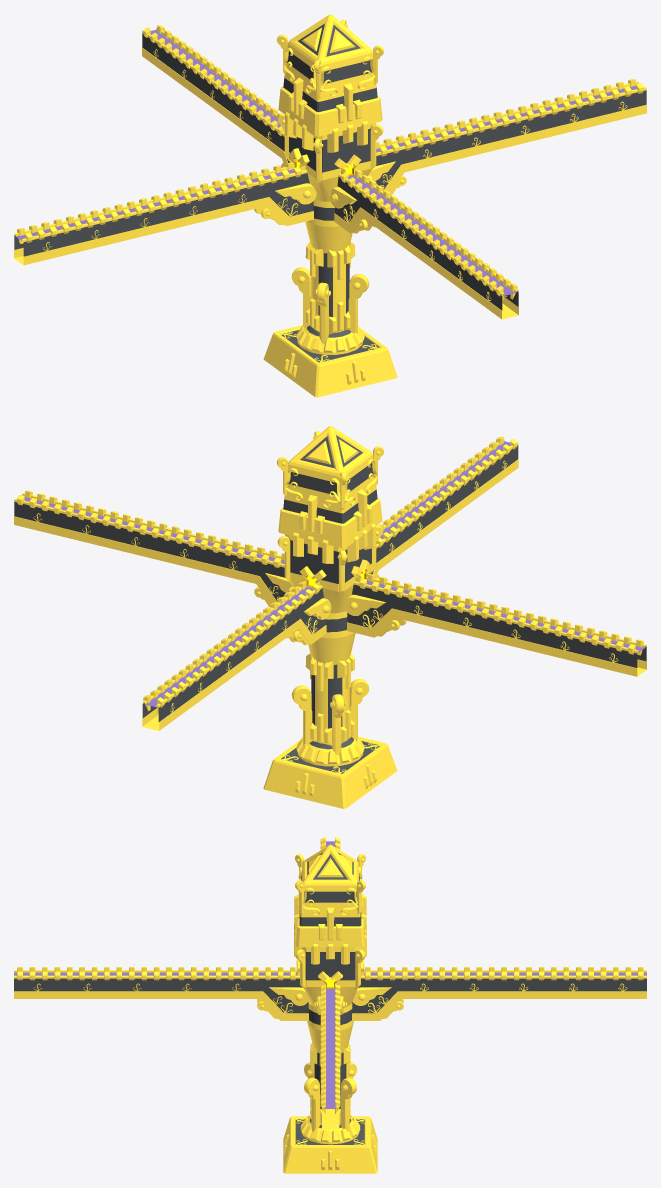
The model's file is religious_bridgetower.fbx.
The picture shows the model from 3 angles, top to bottom: view 1: azimuth 30°, elevation 25°; view 2: azimuth 150°, elevation 25°; view 3: azimuth 270°, elevation 25°; orthographic projection. The views are drawn at different scales.
Visible parts, largest first — view 1: merlons (×4), bridgewall3, bridgewall1, base3, base2, bridgewall2, bridgetower, bridgewall4, deets (×2), staffs (×3), staffs_low, deets_low (+2 smaller); view 2: merlons (×4), bridgewall3, bridgewall1, base3, base2, bridgewall4, bridgetower, bridgewall2, deets (×2), staffs (×3), staffs_low, deets_low (+2 smaller); view 3: bridgewall2, bridgewall4, merlons (×3), base3, base2, bridgetower, staffs (×3), bridgewall1, staffs_low, deets (×2), deets_low, staffs_high.
Boxes of the visible parts, x1=… form: merlons (×4): x1=17, y1=25, x2=643, y2=301; bridgewall3: x1=14, y1=165, x2=313, y2=265; bridgewall1: x1=375, y1=81, x2=646, y2=192; base3: x1=278, y1=14, x2=382, y2=136; base2: x1=289, y1=124, x2=371, y2=354; bridgewall2: x1=334, y1=171, x2=518, y2=319; bridgetower: x1=263, y1=325, x2=397, y2=397; bridgewall4: x1=142, y1=27, x2=289, y2=166; deets (×2): x1=288, y1=77, x2=361, y2=334; staffs (×3): x1=254, y1=19, x2=384, y2=233; staffs_low: x1=291, y1=267, x2=369, y2=343; deets_low: x1=285, y1=112, x2=375, y2=152; merlons (×4): x1=17, y1=436, x2=643, y2=713; bridgewall3: x1=347, y1=576, x2=646, y2=676; bridgewall1: x1=14, y1=493, x2=285, y2=604; base3: x1=278, y1=426, x2=382, y2=548; base2: x1=289, y1=535, x2=371, y2=766; bridgewall4: x1=142, y1=582, x2=326, y2=730; bridgetower: x1=263, y1=736, x2=397, y2=808; bridgewall2: x1=371, y1=439, x2=518, y2=578; deets (×2): x1=299, y1=489, x2=372, y2=745; staffs (×3): x1=276, y1=431, x2=406, y2=645; staffs_low: x1=291, y1=679, x2=369, y2=755; deets_low: x1=285, y1=523, x2=375, y2=563; bridgewall2: x1=14, y1=970, x2=308, y2=1020; bridgewall4: x1=352, y1=970, x2=646, y2=1020; merlons (×3): x1=17, y1=967, x2=643, y2=1113; base3: x1=296, y1=844, x2=364, y2=947; base2: x1=300, y1=947, x2=360, y2=1144; bridgetower: x1=283, y1=1116, x2=377, y2=1173; staffs (×3): x1=257, y1=854, x2=403, y2=1019; bridgewall1: x1=322, y1=985, x2=339, y2=1129; staffs_low: x1=304, y1=1062, x2=356, y2=1131; deets (×2): x1=294, y1=894, x2=366, y2=1124; deets_low: x1=294, y1=924, x2=366, y2=964; staffs_high: x1=295, y1=949, x2=365, y2=989.
Bounding box in the file's own units: 144 × 77.9 × 144.
